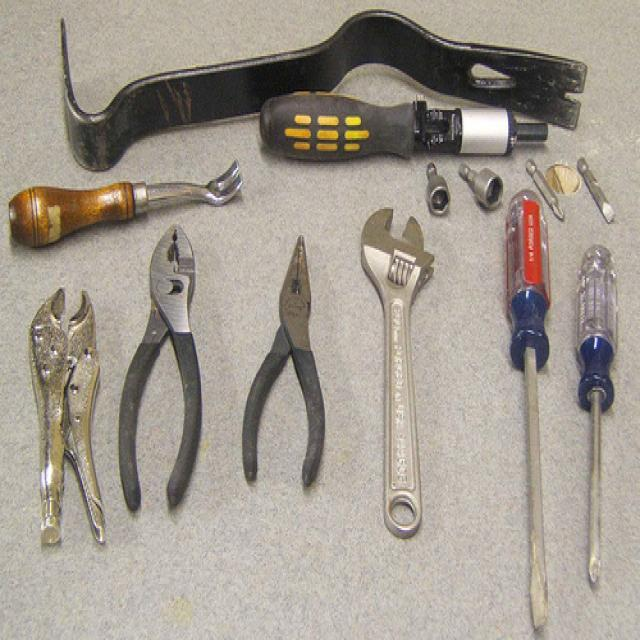pliers: (114, 207, 209, 521), (235, 226, 334, 497), (19, 279, 114, 554)
screwdriver: (494, 182, 564, 640), (248, 80, 562, 176), (574, 234, 622, 594)
wrench: (353, 196, 441, 548)
